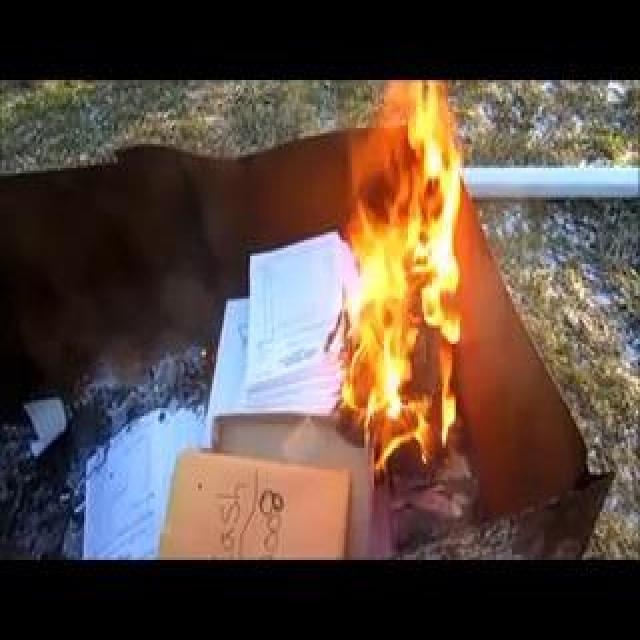Fire: (158, 266, 384, 378)
